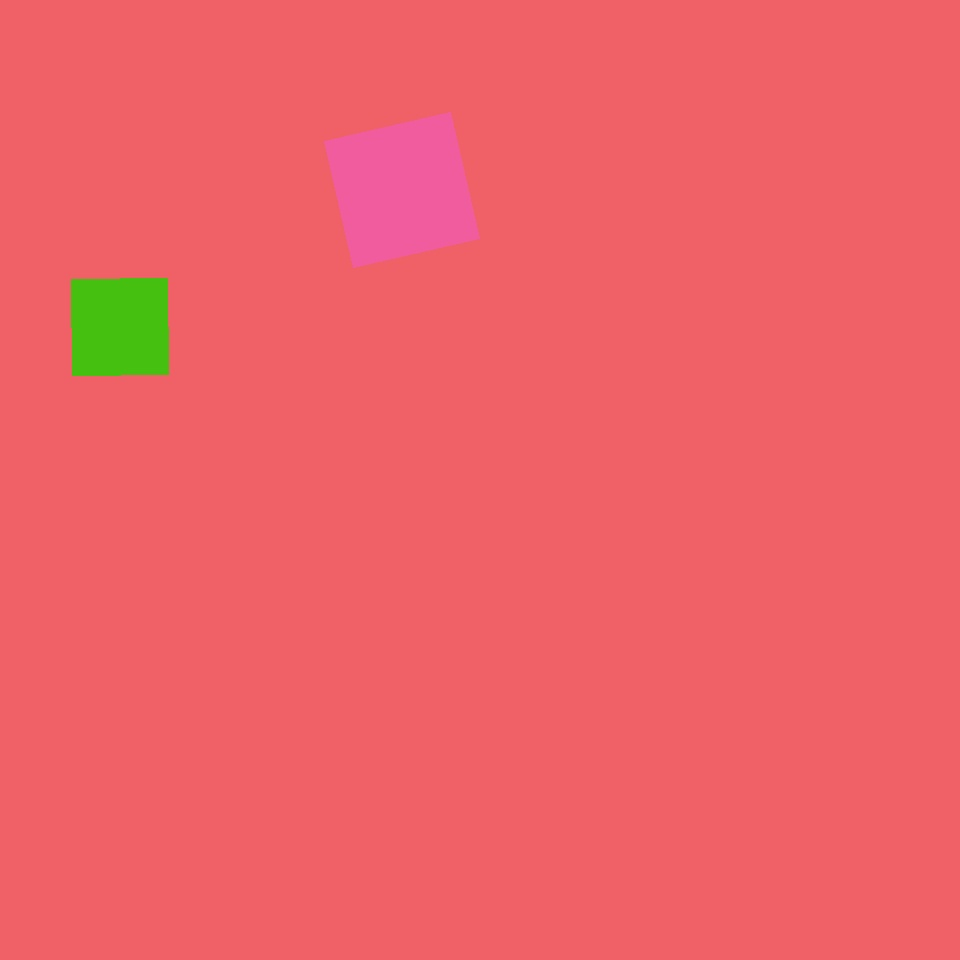circle: (725, 563, 934, 762), (336, 252, 524, 440), (437, 496, 592, 640)
square: (375, 613, 700, 938), (435, 581, 744, 890), (324, 112, 480, 268), (72, 278, 168, 376)
triangle: (246, 171, 511, 436)
